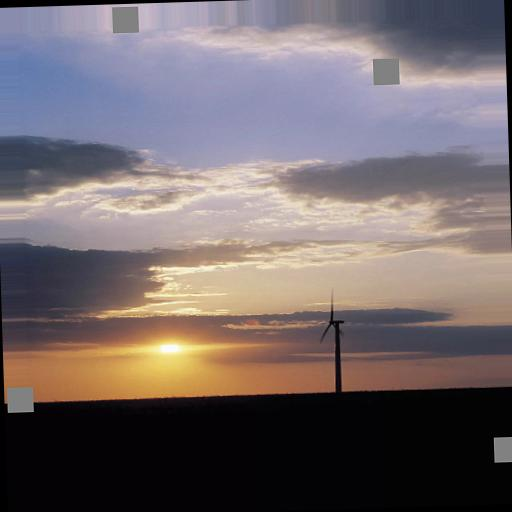wind turbine: (319, 287, 348, 390)
